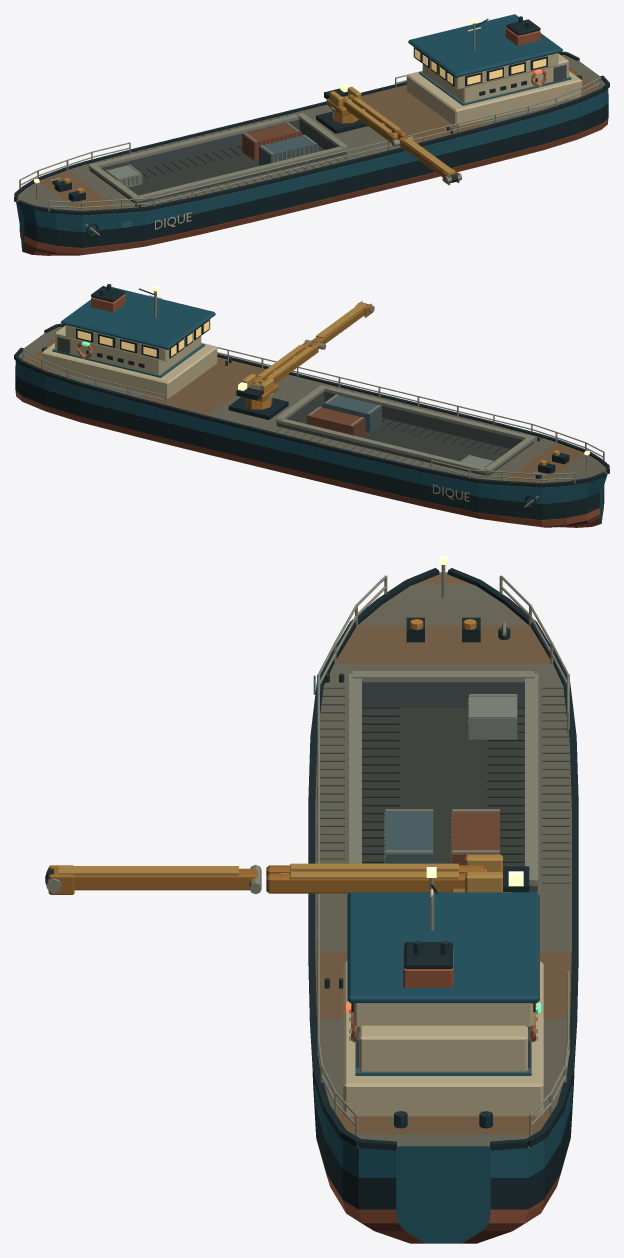
The model's file is dique-barco.glb.
The picture shows the model from 3 angles, top to bottom: view 1: azimuth 30°, elevation 25°; view 2: azimuth 150°, elevation 25°; view 3: azimuth 270°, elevation 25°; orthographic projection. The views are drawn at different scales.
Visible parts, largest first — view 1: Dique_Barco_Pintura, Dique_Barco_Acero, Dique_Brazo_Pintura, Dique_Pescante_Pintura, Dique_Barco_Vidrio, Dique_Torreta_Pintura; view 2: Dique_Barco_Pintura, Dique_Barco_Acero, Dique_Brazo_Pintura, Dique_Pescante_Pintura, Dique_Barco_Vidrio, Dique_Torreta_Pintura; view 3: Dique_Barco_Pintura, Dique_Barco_Acero, Dique_Brazo_Pintura, Dique_Pescante_Pintura, Dique_Torreta_Pintura.
Boxes of the visible parts, x1,y1,x2,y2 form: Dique_Barco_Pintura: [14, 14, 609, 255]; Dique_Barco_Acero: [15, 16, 601, 235]; Dique_Brazo_Pintura: [342, 94, 406, 142]; Dique_Pescante_Pintura: [399, 136, 459, 185]; Dique_Barco_Vidrio: [415, 49, 546, 84]; Dique_Torreta_Pintura: [324, 86, 361, 115]; Dique_Barco_Pintura: [14, 286, 609, 527]; Dique_Barco_Acero: [22, 284, 608, 508]; Dique_Brazo_Pintura: [252, 341, 318, 384]; Dique_Pescante_Pintura: [311, 301, 372, 343]; Dique_Barco_Vidrio: [77, 321, 208, 356]; Dique_Torreta_Pintura: [236, 373, 278, 401]; Dique_Barco_Pintura: [308, 568, 578, 1243]; Dique_Barco_Acero: [317, 565, 569, 1147]; Dique_Brazo_Pintura: [266, 863, 484, 893]; Dique_Pescante_Pintura: [48, 865, 257, 894]; Dique_Torreta_Pintura: [450, 854, 529, 892].
Bounding box in the file's own units: 24.97 × 5.39 × 10.
